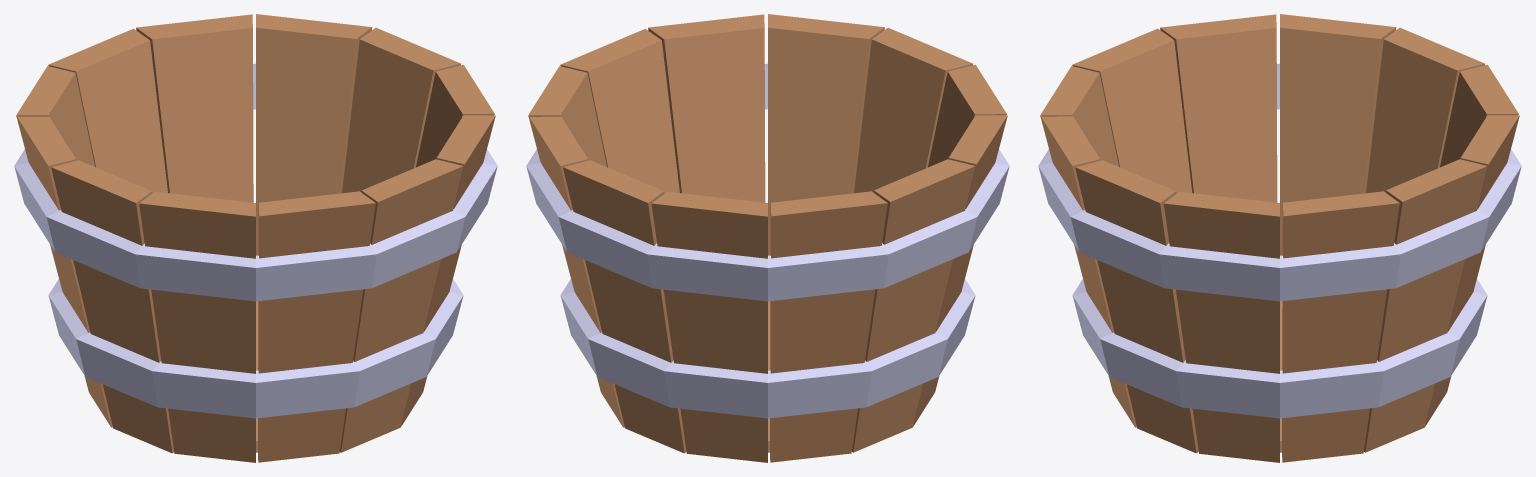
The model's file is wooden_bow.fbx.
3 views of the same model, side by side, from view 1: azimuth 30°, elevation 25°; view 2: azimuth 150°, elevation 25°; view 3: azimuth 270°, elevation 25° (orthographic).
Parts seen in each view (by area): view 1: wooden_bow, obod; view 2: wooden_bow, obod; view 3: wooden_bow, obod.
Boxes of the visible parts, <box> form: wooden_bow: <box>16,14,495,462</box>; obod: <box>14,63,497,418</box>; wooden_bow: <box>528,14,1007,462</box>; obod: <box>526,63,1009,418</box>; wooden_bow: <box>1040,14,1519,462</box>; obod: <box>1038,63,1521,418</box>.
Bounding box in the file's own units: 379 × 239 × 379.
